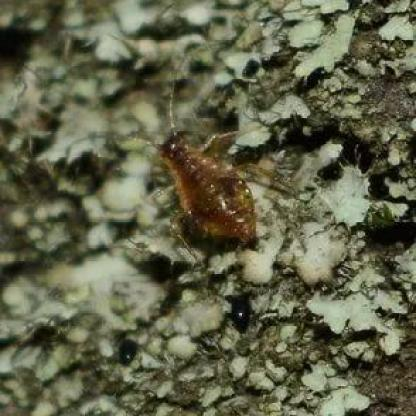aphid: (134, 89, 286, 248)
